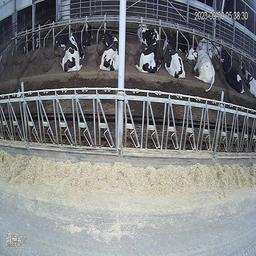cow: (58, 35, 92, 70), (187, 47, 215, 89), (222, 49, 244, 94), (163, 36, 187, 77), (134, 35, 161, 71), (101, 32, 118, 71), (198, 34, 217, 61), (174, 29, 191, 55), (138, 20, 157, 43), (55, 25, 73, 49), (75, 22, 93, 43), (245, 65, 255, 101)
